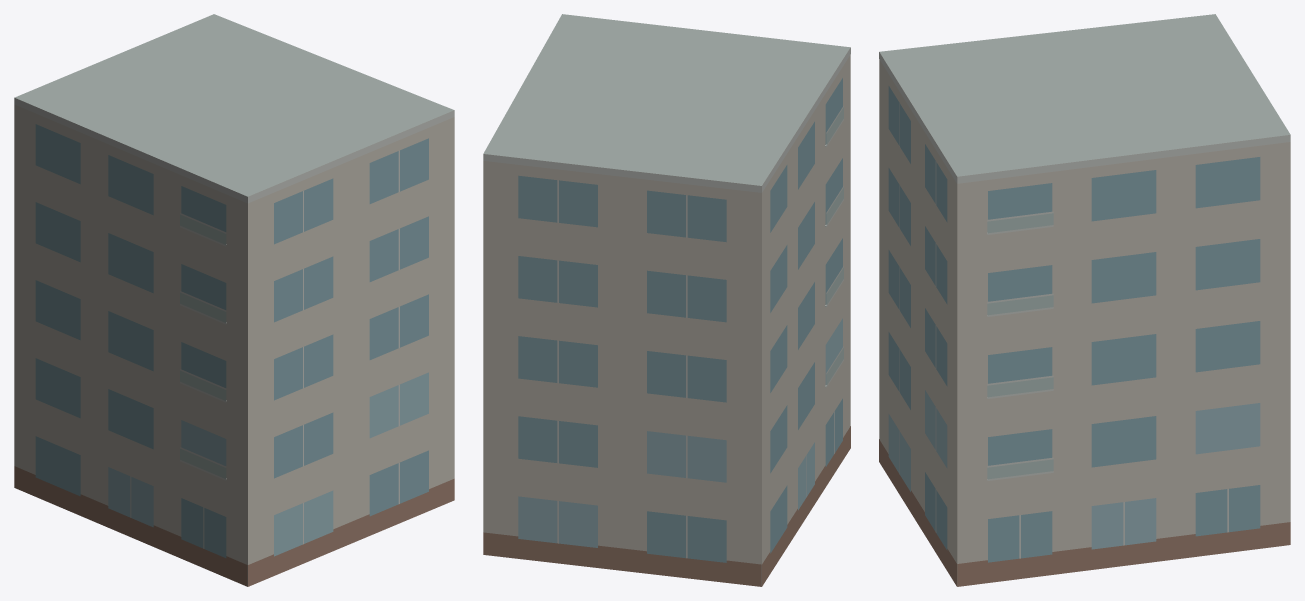
Rendered from survey-upis-32576499.glb.
The picture shows the model from 3 angles, left to right: view 1: azimuth 30°, elevation 25°; view 2: azimuth 150°, elevation 25°; view 3: azimuth 270°, elevation 25°; orthographic projection. The views are drawn at different scales.
Parts seen in each view (by area): view 1: survey-upis-32576499.tmp; view 2: survey-upis-32576499.tmp; view 3: survey-upis-32576499.tmp.
Boxes of the visible parts, box(x1,y1,x2,y2) form: survey-upis-32576499.tmp: box(14, 14, 454, 586); survey-upis-32576499.tmp: box(483, 14, 850, 586); survey-upis-32576499.tmp: box(879, 14, 1290, 586).
Size of the model in its own units: 12.01 by 14.1 by 12.83.
